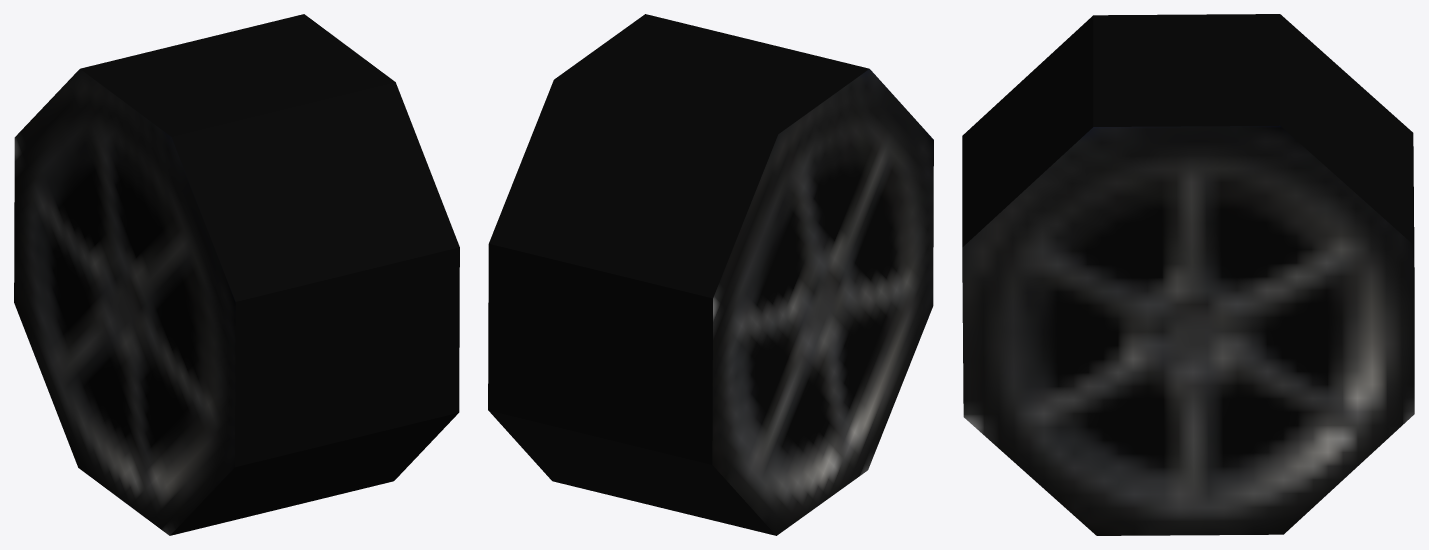
The model's file is TireHazard.fbx.
3 renders of one model, left to right at view 1: azimuth 30°, elevation 25°; view 2: azimuth 150°, elevation 25°; view 3: azimuth 270°, elevation 25°, orthographic. The views are drawn at different scales.
Parts seen in each view (by area): view 1: Cylinder.004; view 2: Cylinder.004; view 3: Cylinder.004.
Boxes of the visible parts, x1,y1,x2,y2 form: Cylinder.004: [14, 14, 459, 535]; Cylinder.004: [488, 14, 933, 535]; Cylinder.004: [962, 14, 1414, 535].
Size of the model in its own units: 111 by 190 by 190.
1 material, 1 textured.
